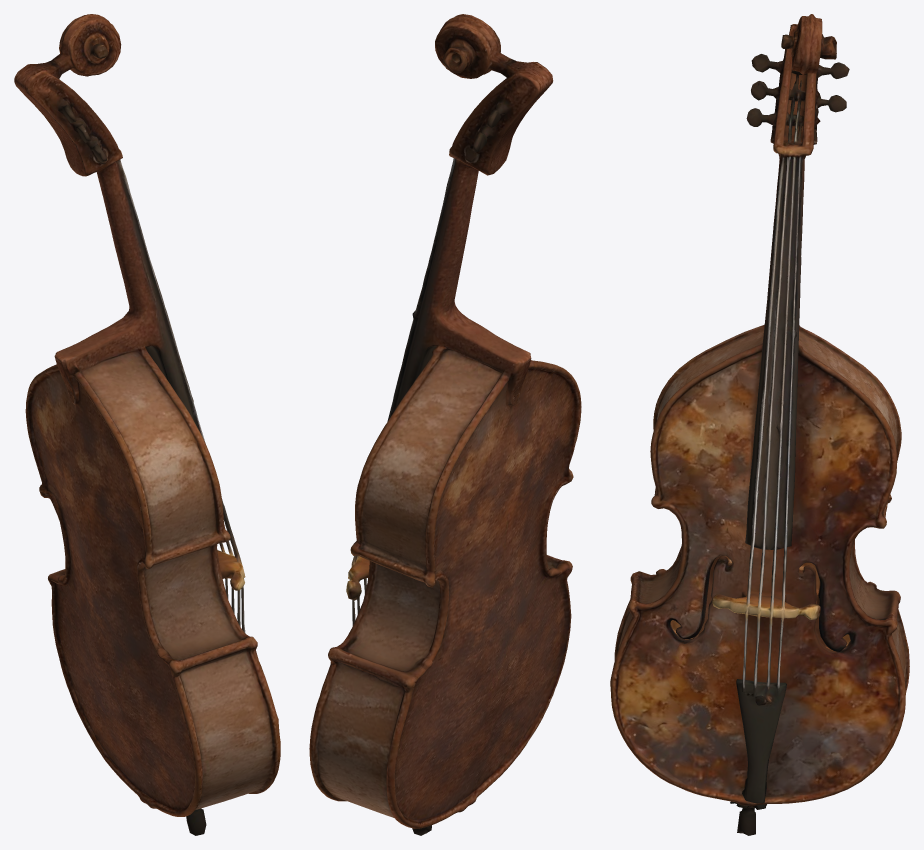
The model's file is bass.glb.
3 renders of one model, left to right at view 1: azimuth 30°, elevation 25°; view 2: azimuth 150°, elevation 25°; view 3: azimuth 270°, elevation 25°, orthographic. The views are drawn at different scales.
Parts seen in each view (by area): view 1: tripo_node_ef0ddbd3-d5cd-4fec-8c92-66a32eadc25d; view 2: tripo_node_ef0ddbd3-d5cd-4fec-8c92-66a32eadc25d; view 3: tripo_node_ef0ddbd3-d5cd-4fec-8c92-66a32eadc25d.
Boxes of the visible parts, bbox=[...] form: tripo_node_ef0ddbd3-d5cd-4fec-8c92-66a32eadc25d: bbox=[14, 14, 280, 835]; tripo_node_ef0ddbd3-d5cd-4fec-8c92-66a32eadc25d: bbox=[309, 14, 581, 835]; tripo_node_ef0ddbd3-d5cd-4fec-8c92-66a32eadc25d: bbox=[610, 14, 909, 835].
Size of the model in its own units: 0.264 by 1 by 0.3473.
1 material, 1 textured.
